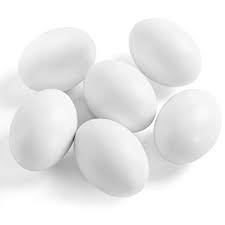eggs: (74, 115, 148, 193), (130, 20, 213, 89), (156, 89, 225, 165), (79, 55, 153, 124), (9, 91, 70, 170), (15, 29, 86, 91)
